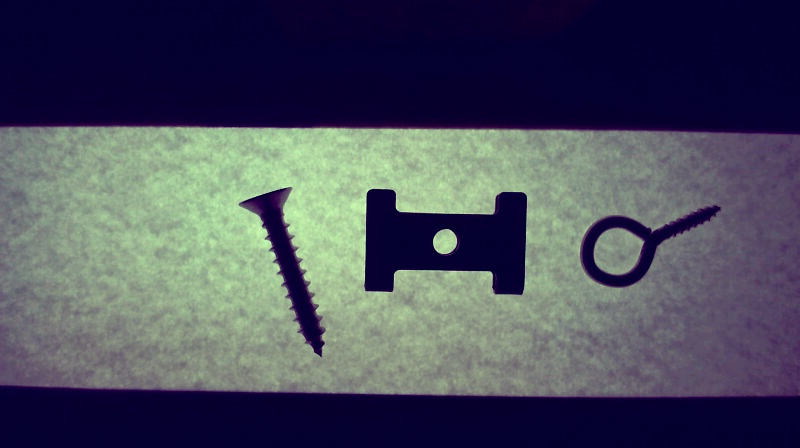O001: (574, 199, 724, 290)
O002: (359, 182, 530, 299)
S001: (237, 183, 329, 362)
